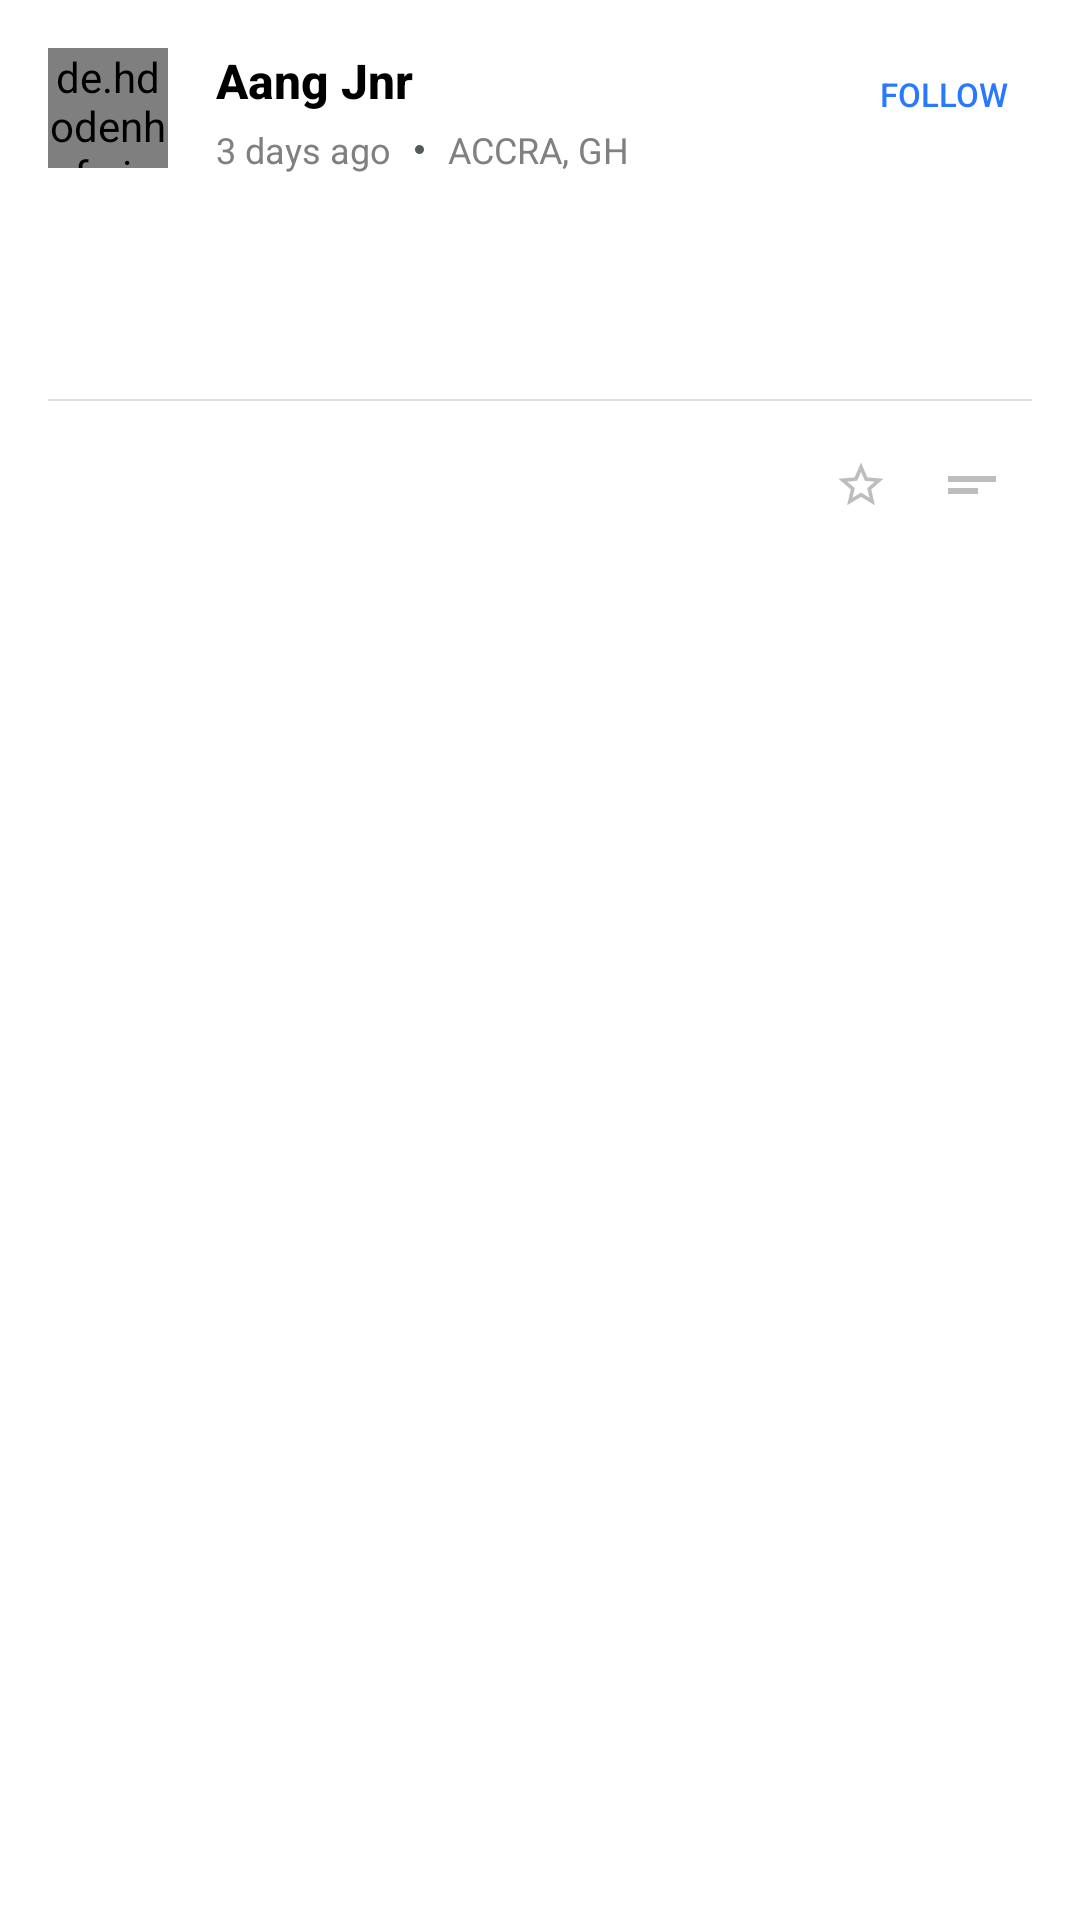

Icon bounding boxes for this 1080×1920 phone screenshot, format (x1, y1, x2, y2):
star border: (839, 463, 883, 505)
